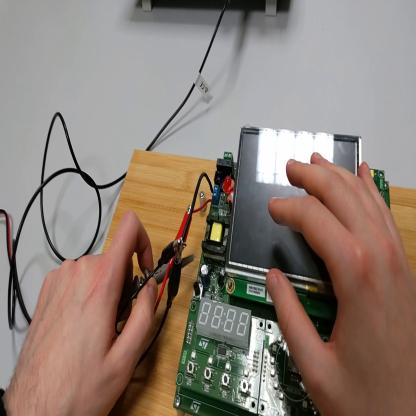hand: (266, 150, 416, 414), (3, 209, 161, 414)
low voltage board: (172, 124, 391, 416)
oscilloscope: (143, 2, 278, 18)
oscilloscope probe tip: (120, 256, 197, 309)
working area: (103, 152, 416, 414)
